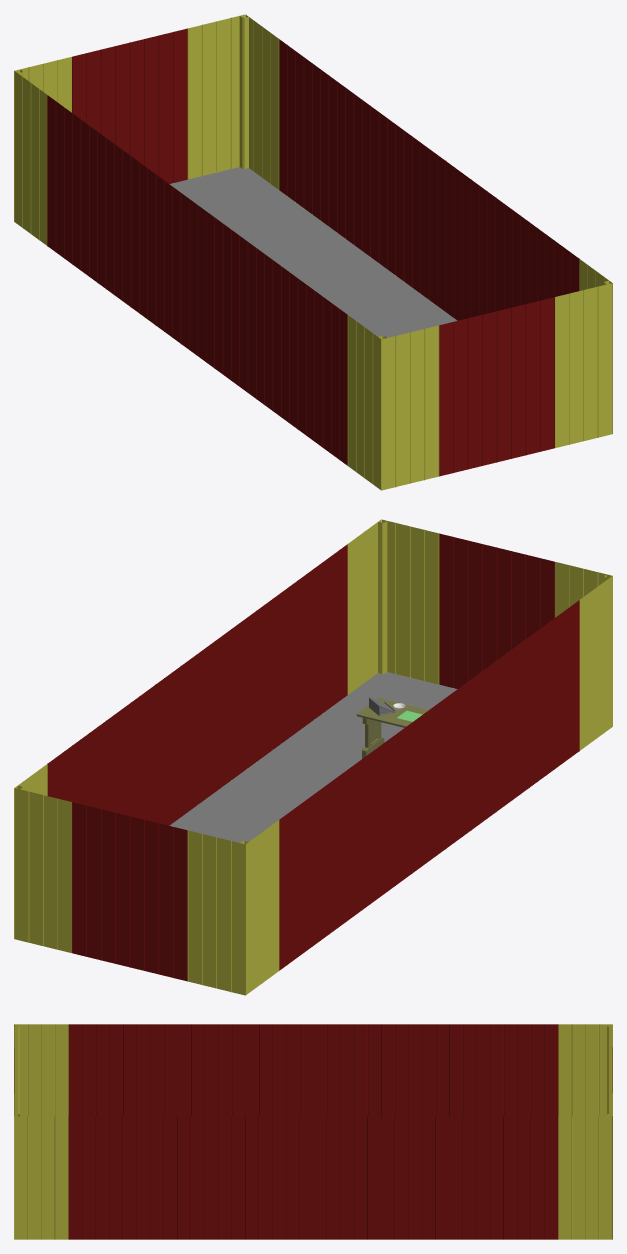
The model's file is God'sRoom.fbx.
The picture shows the model from 3 angles, top to bottom: view 1: azimuth 30°, elevation 25°; view 2: azimuth 150°, elevation 25°; view 3: azimuth 270°, elevation 25°; orthographic projection. The views are drawn at different scales.
Parts seen in each view (by area): view 1: Plane001, Box033, Box055, Box042, Box043, Box044, Box057, Box054, Box037, Box039, Box030, Box036 (+15 smaller); view 2: Plane001, Box042, Box054, Box055, Box056, Box057, Box044, Box033, Box037, Box035, Box030, Box038 (+16 smaller); view 3: Box042, Box055, Box045, Box046, Box047, Box048, Box049, Box050, Box051, Box052, Box053, Box034 (+10 smaller).
Part boxes in pixels (x1,y1,x2,y2): Plane001: (169,167,457,490); Box033: (347,315,439,490); Box055: (187,14,279,189); Box042: (555,259,612,447); Box043: (439,311,497,476); Box044: (497,297,554,462); Box057: (129,28,187,183); Box054: (14,57,71,245); Box037: (180,193,214,367); Box039: (114,144,147,318); Box030: (314,290,347,465); Box036: (214,217,247,392); Plane001: (169,672,457,995); Box042: (347,519,439,694); Box054: (187,820,279,995); Box055: (14,764,71,952); Box056: (129,816,187,981); Box057: (72,802,129,967); Box044: (439,533,497,688); Box033: (555,562,612,750); Box037: (412,698,446,872); Box035: (479,649,512,823); Box030: (546,600,579,774); Box038: (379,722,412,897); Box042: (14,1093,68,1239); Box055: (558,1093,612,1239); Box045: (68,1116,122,1239); Box046: (123,1116,177,1239); Box047: (177,1116,231,1239); Box048: (232,1116,286,1239); Box049: (286,1116,340,1239); Box050: (340,1116,394,1239); Box051: (395,1116,449,1239); Box052: (449,1116,503,1239); Box053: (504,1116,558,1239); Box034: (123,1024,177,1116).
Size of the model in its own units: 401 by 250 by 1101.
